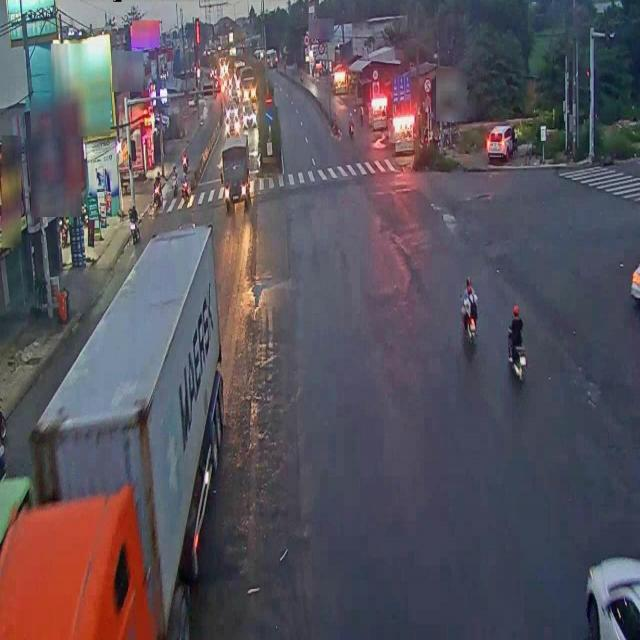motorcycle: (505, 303, 527, 389), (459, 275, 479, 355)
truck: (0, 216, 225, 639), (221, 132, 251, 212)
